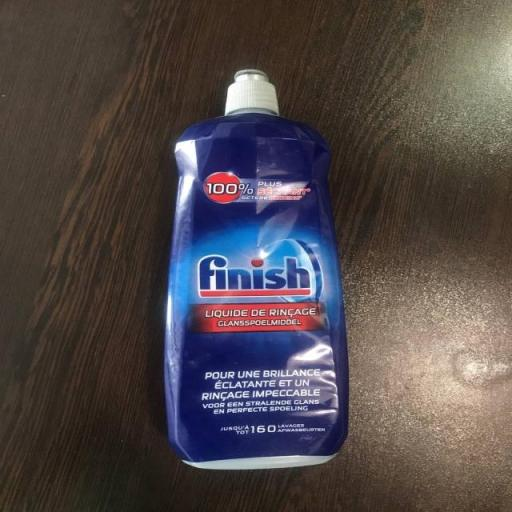plastic: (161, 62, 355, 472)
